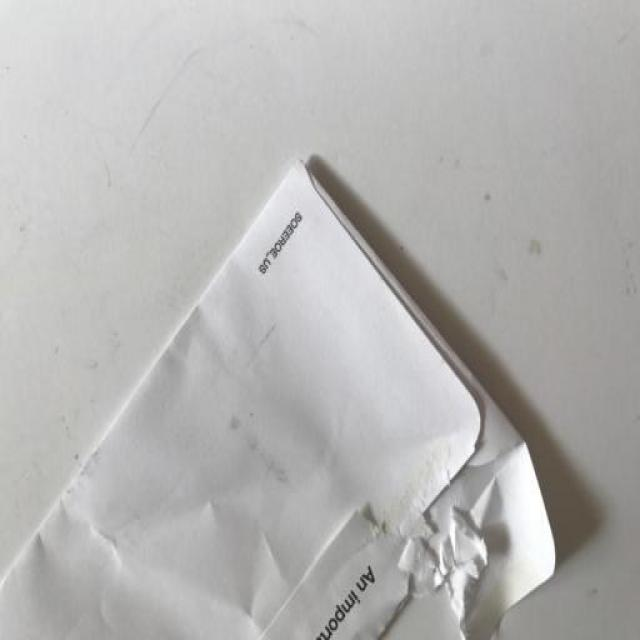paper: (11, 142, 574, 640)
